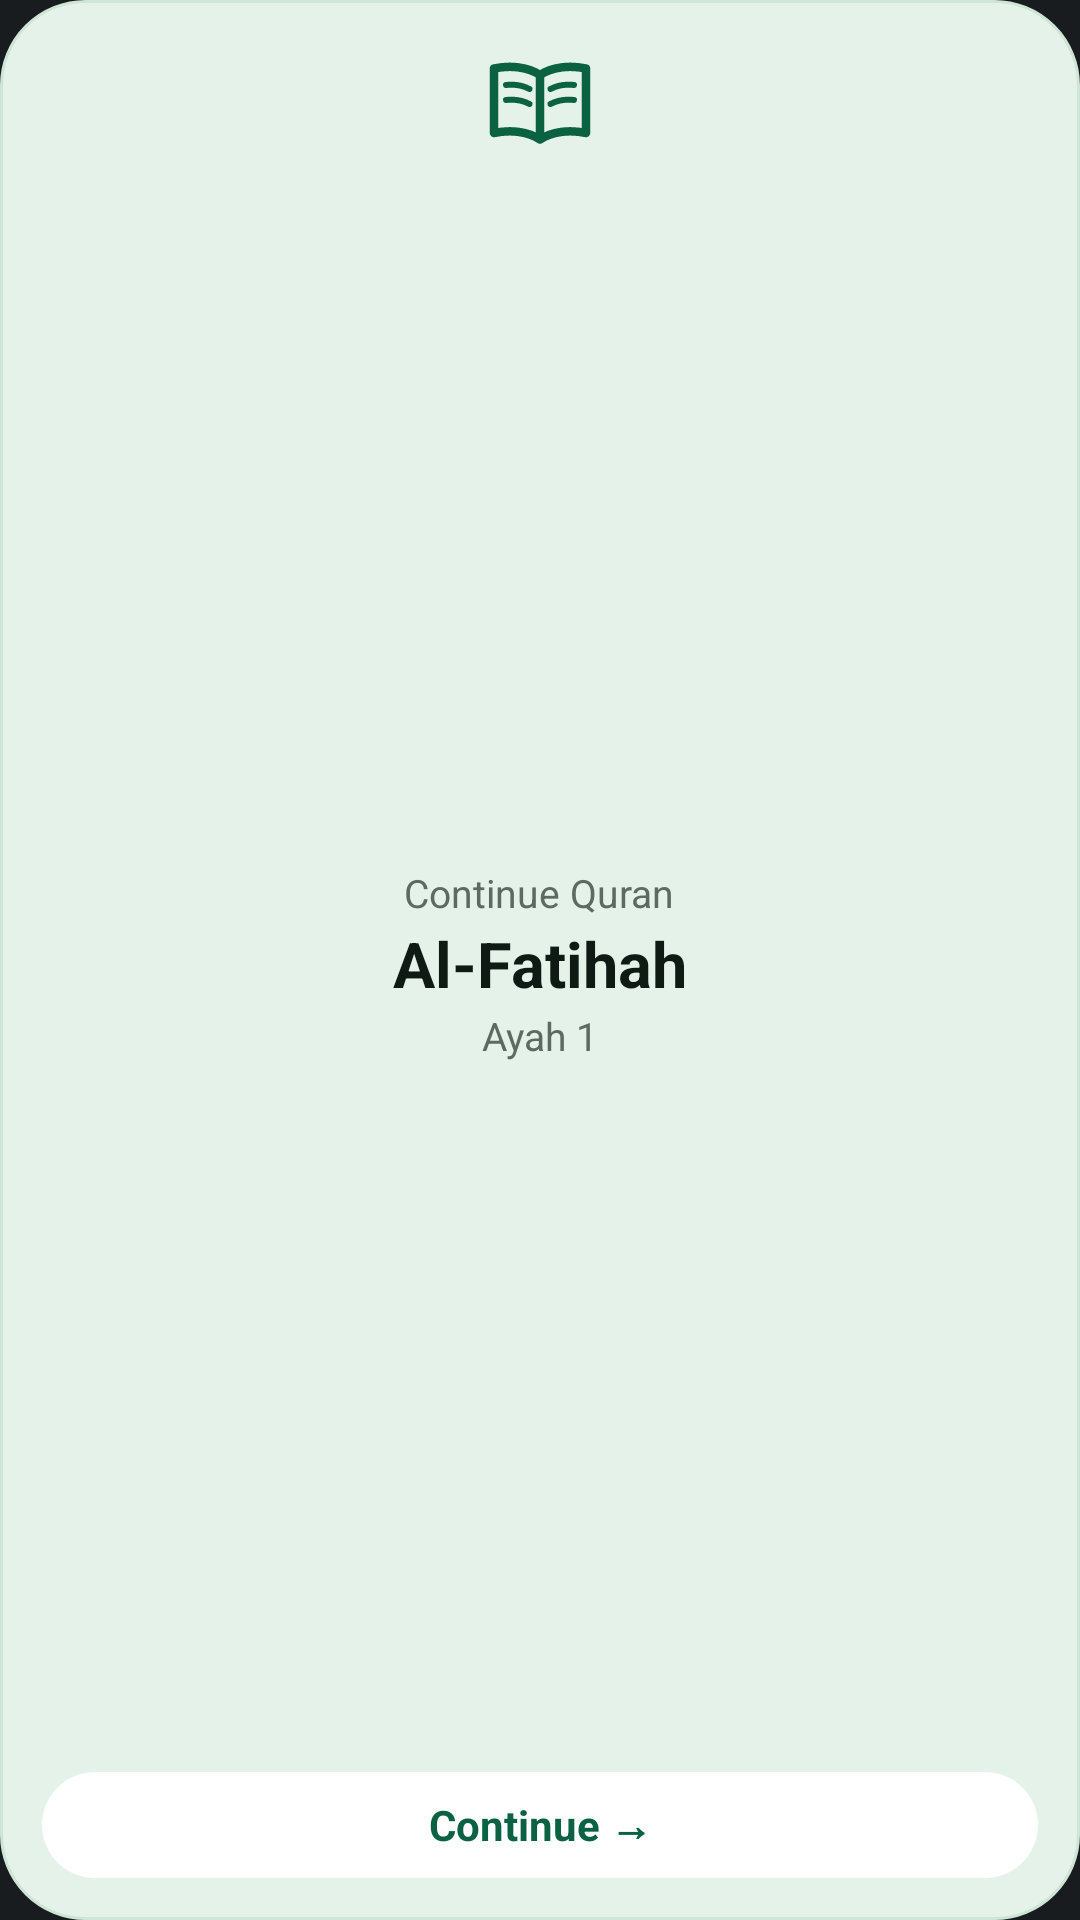

Icons on this 1080 × 1920 Android screen, each with the point to tap as point (x, y):
widget book: point (540, 103)
